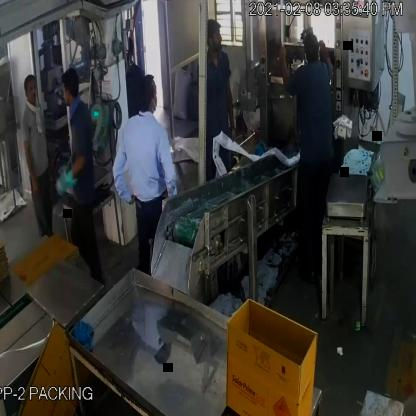glove: (52, 148, 82, 207)
no_glove: (109, 132, 133, 217), (219, 68, 243, 150), (154, 144, 180, 204), (20, 132, 43, 189), (275, 25, 290, 99), (318, 36, 336, 90)
